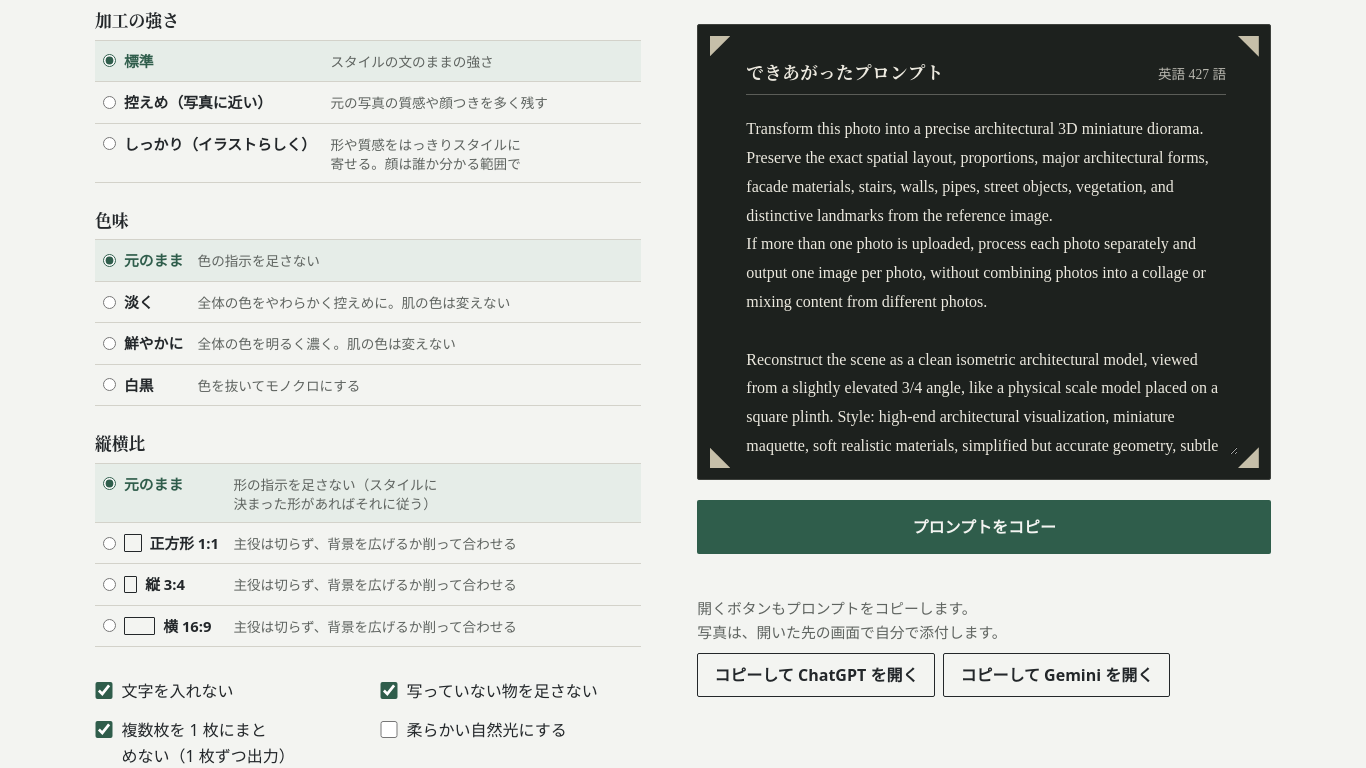
Scenario: 最近使った設定 › 一覧は既定から変えた点で見分けられる
The width and height of the screenshot is (1366, 768).
(page scrolled)
Click the radio button labelled "白黒".
click(110, 385)  # box top-left (103, 378), bottom-right (116, 391)
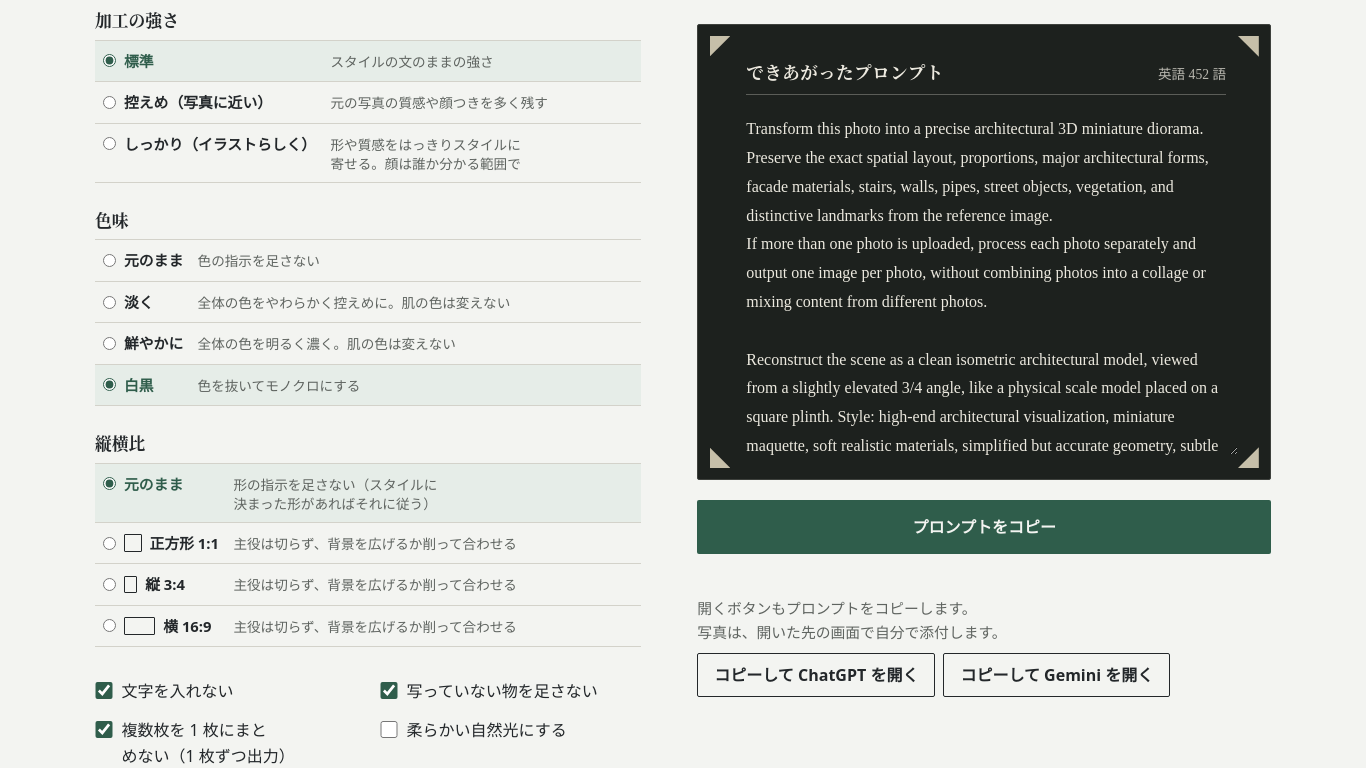
Click the checkbox labelled "文字を入れない".
click(104, 690)  # box top-left (95, 682), bottom-right (113, 699)
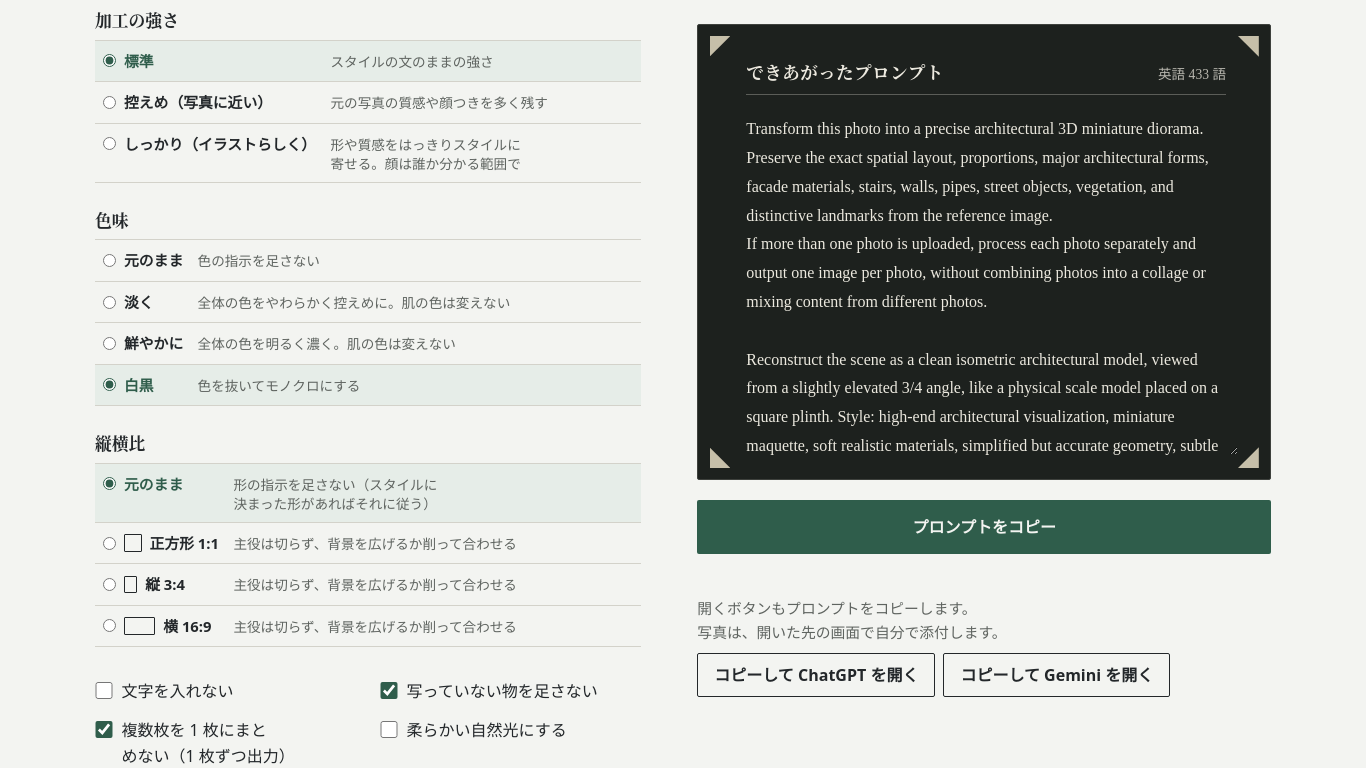
Click the button "プロンプトをコピー".
click(984, 527)  # box top-left (697, 500), bottom-right (1271, 554)
(page scrolled)
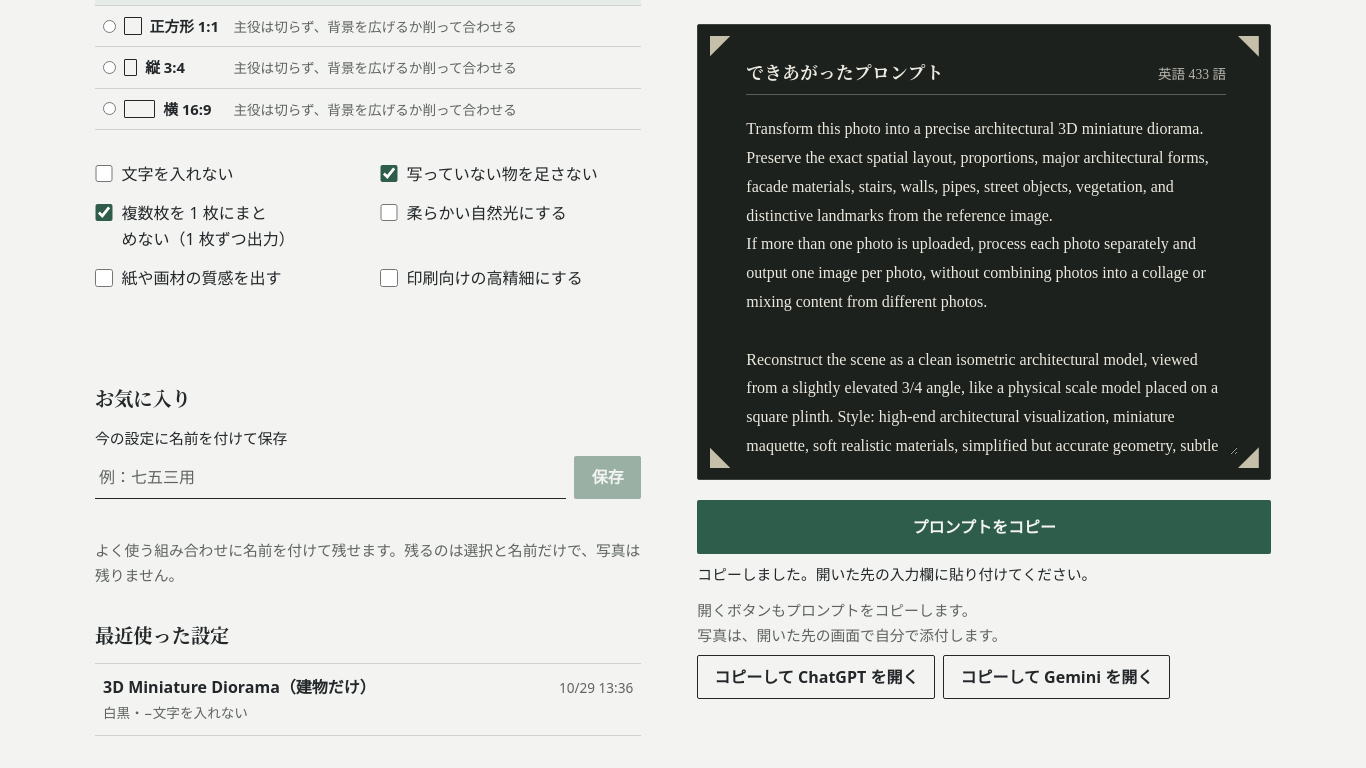
Now the button "3D Miniature Diorama（建物だけ） 白黒・−文字を入れない 10/29 13:36" is shown, box top-left (95, 664), bottom-right (641, 735)
